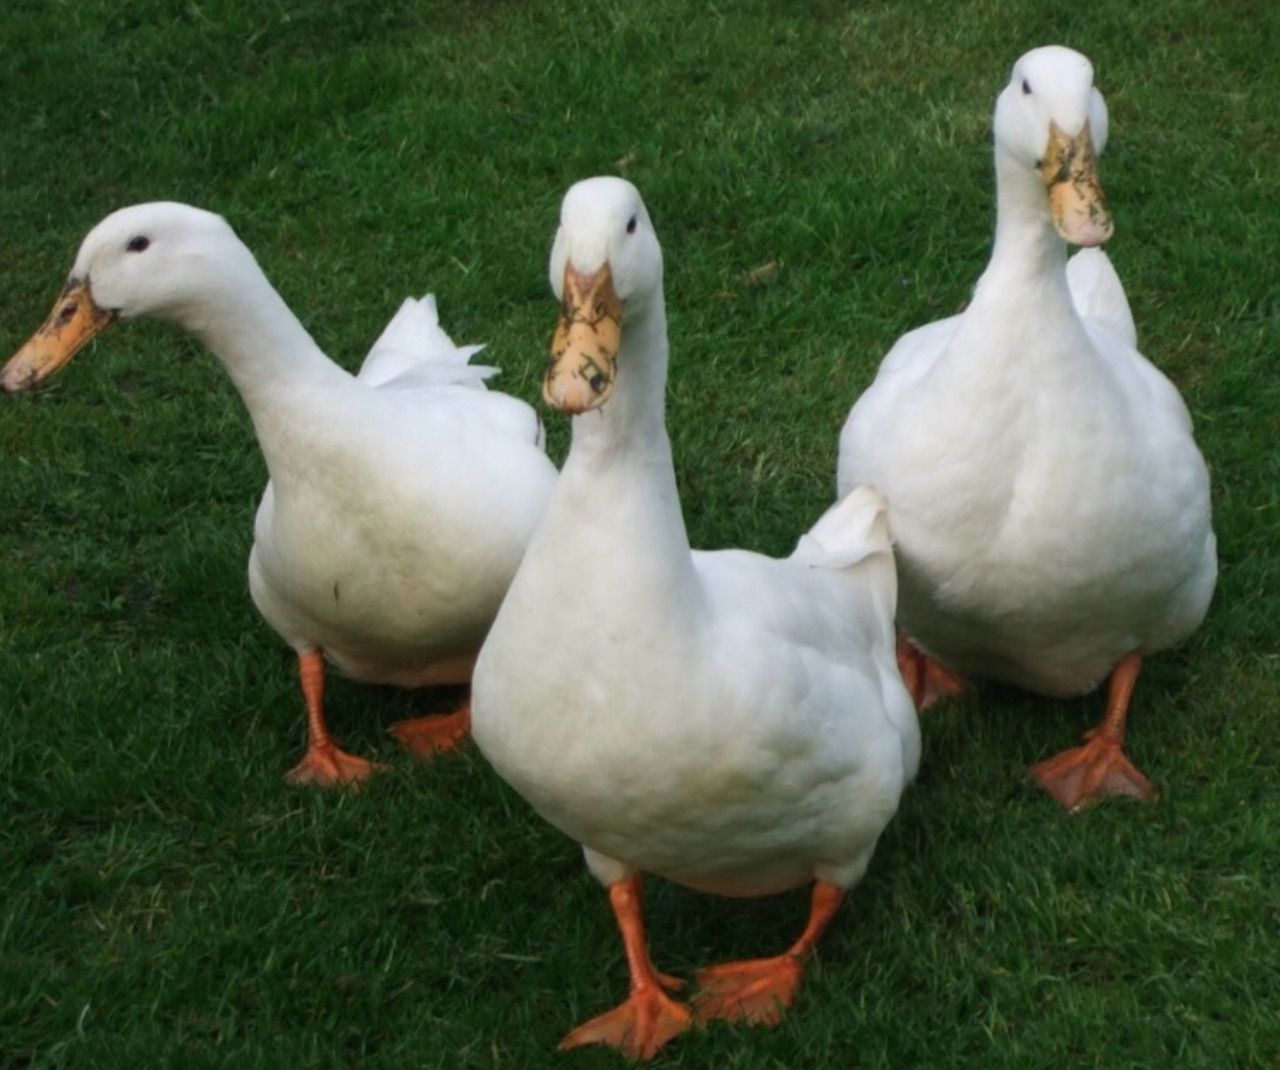Mencari Makan di Lumpur: (1, 272, 121, 401), (1035, 113, 1127, 260), (544, 265, 624, 414)
